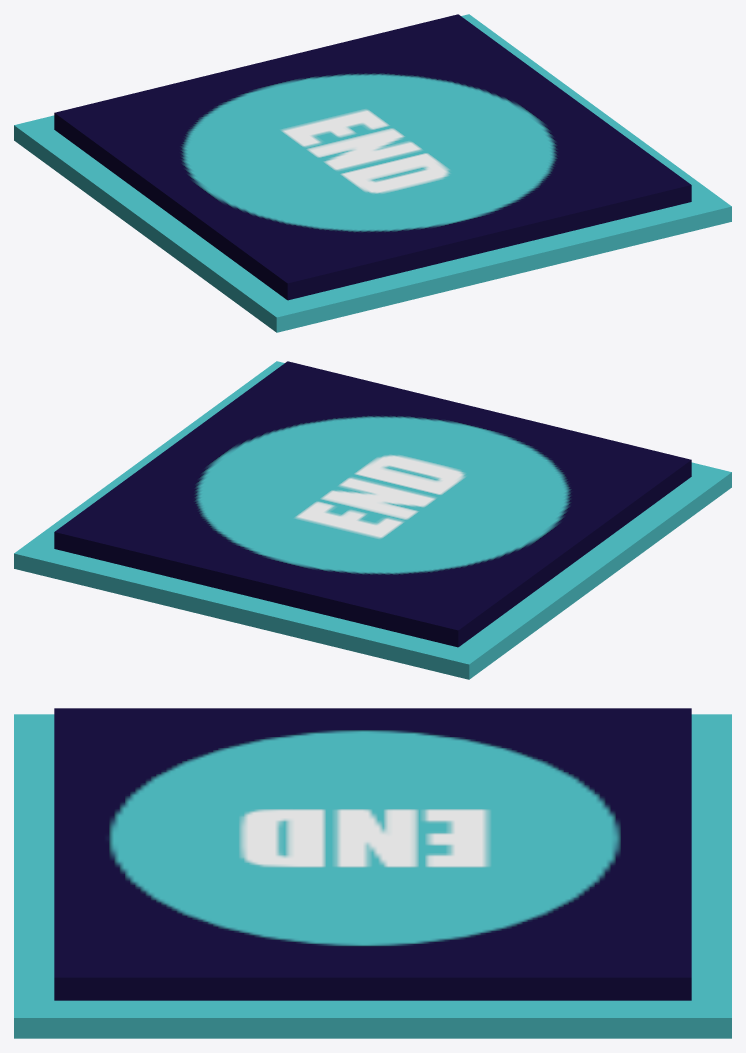
The model's file is EndTile.fbx.
The picture shows the model from 3 angles, top to bottom: view 1: azimuth 30°, elevation 25°; view 2: azimuth 150°, elevation 25°; view 3: azimuth 270°, elevation 25°; orthographic projection. The views are drawn at different scales.
Visible parts, largest first — view 1: EndTile; view 2: EndTile; view 3: EndTile.
Part boxes in pixels (x1,y1,x2,y2): EndTile: [14, 14, 731, 332]; EndTile: [14, 361, 731, 679]; EndTile: [14, 708, 731, 1038].
Bounding box in the file's own units: 2 × 0.1355 × 2.
